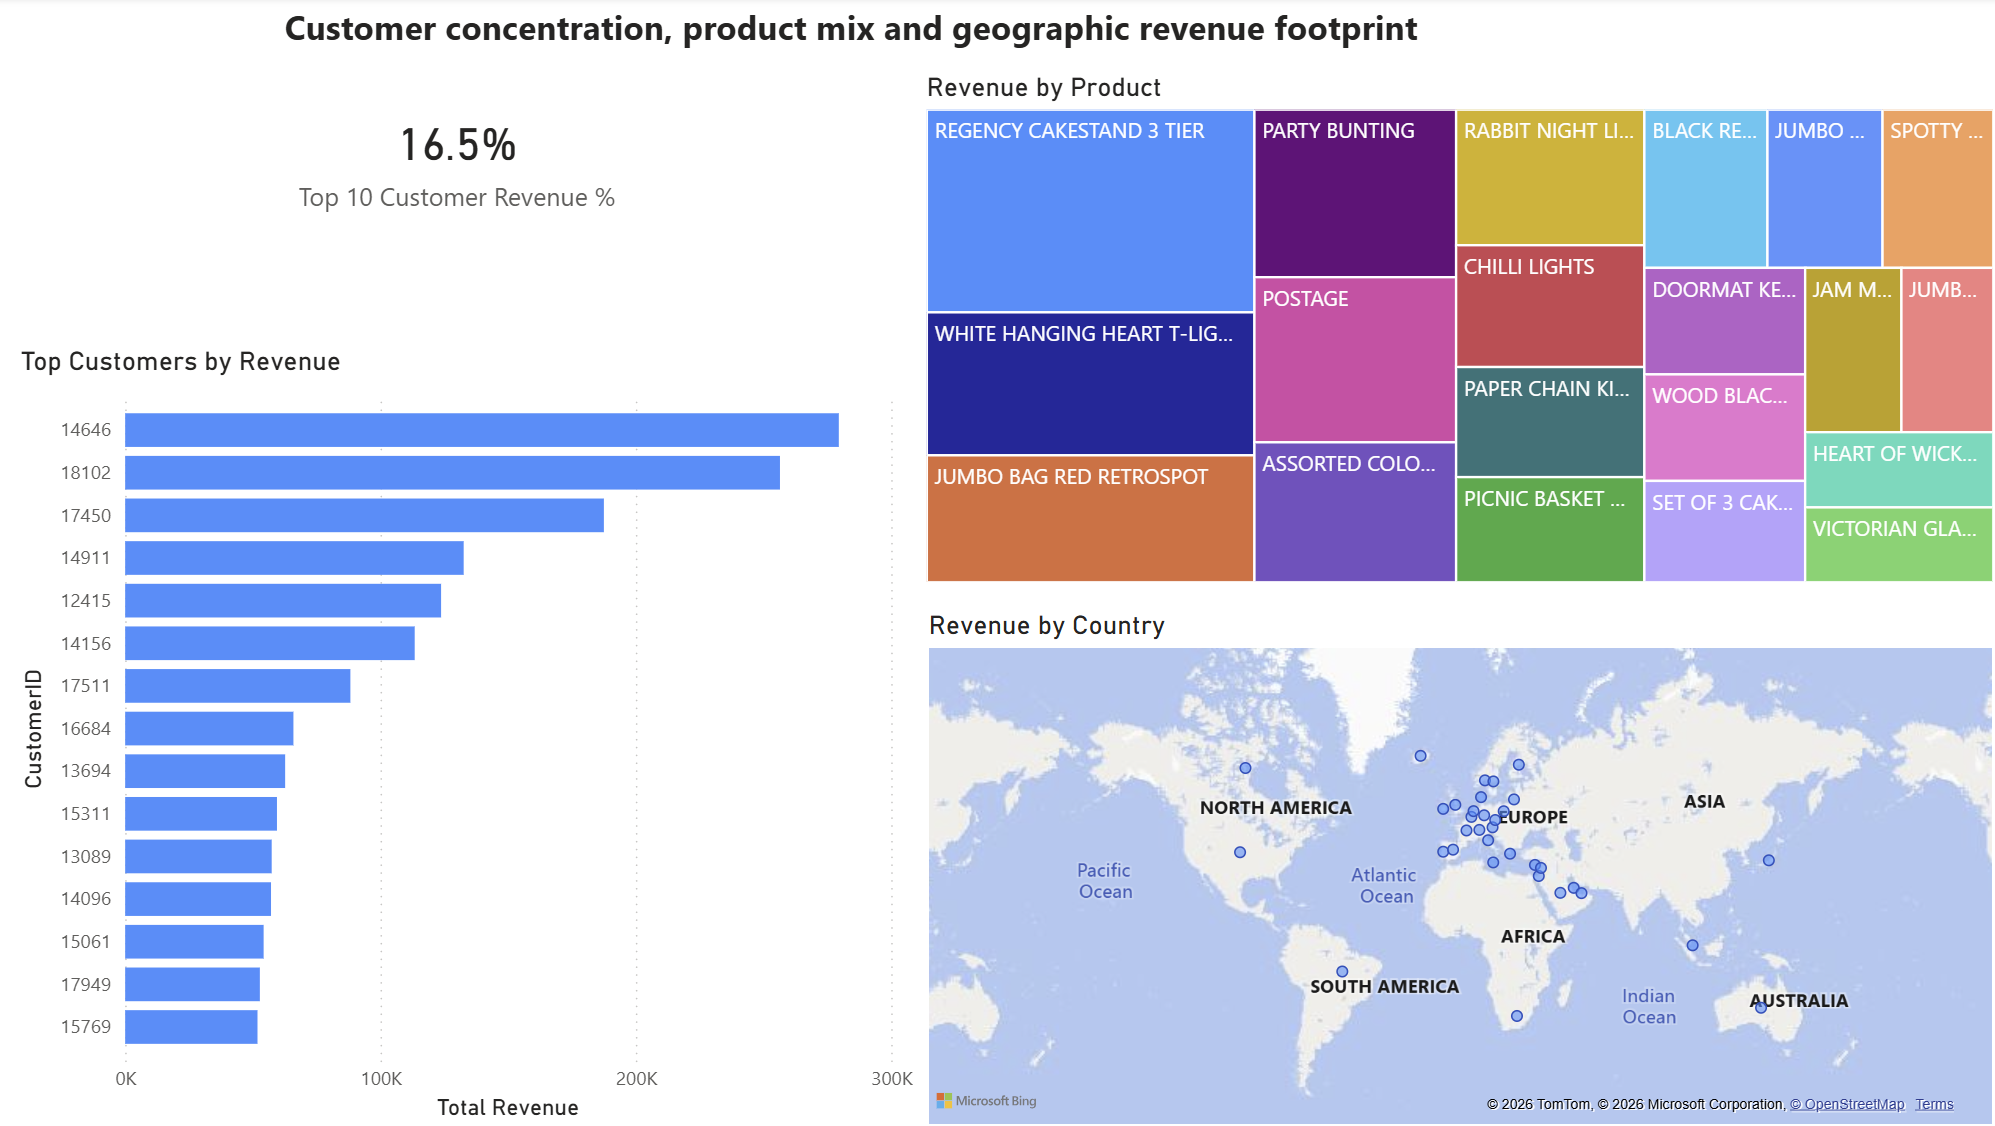

Layout of this report page (visuals, bound fields, positions):
{"tool":"powerbi","page":{"name":"Customer Product Insights","canvas":[1280,720],"ordinal":1},"visuals":[{"type":"clusteredBarChart","title":"Top Customers by Revenue","fields":{"Category":["Online Retail.CustomerID"],"Y":["Online Retail.Total Revenue"]},"box":[12.7,223.1,578.8,498.5],"z":0},{"type":"treemap","title":"Revenue by Product","fields":{"Group":["Online Retail.Description"],"Values":["Online Retail.Total Revenue"]},"box":[590.3,48.4,689.7,330.2],"z":1000},{"type":"map","title":"Revenue by Country","fields":{"Category":["Online Retail.Country"]},"box":[591.6,391.4,688.4,332.7],"z":2000},{"type":"card","fields":{"Values":["Online Retail.Top 10 Customer Revenue %"]},"box":[0,28,591.6,150.4],"z":3000},{"type":"textbox","box":[181,0,850.4,48.4],"z":4000}]}

Visuals, with their boxes in screenshot pixels (x1, y1, x2, y2), scaled from the page's 1280x720 canvas onto the 1995x1126 screenshot:
"Top Customers by Revenue" clusteredBarChart: bbox(20, 349, 922, 1125)
"Revenue by Product" treemap: bbox(920, 76, 1994, 592)
"Revenue by Country" map: bbox(922, 612, 1994, 1125)
card - Online Retail.Top 10 Customer Revenue %: bbox(0, 44, 922, 279)
textbox: bbox(282, 0, 1608, 76)
